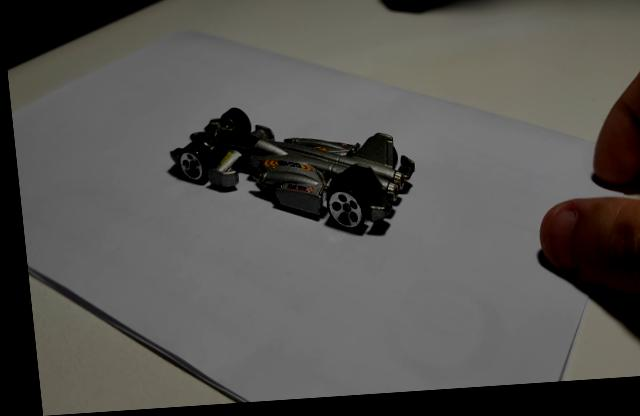05_DC121: (164, 112, 414, 243)
